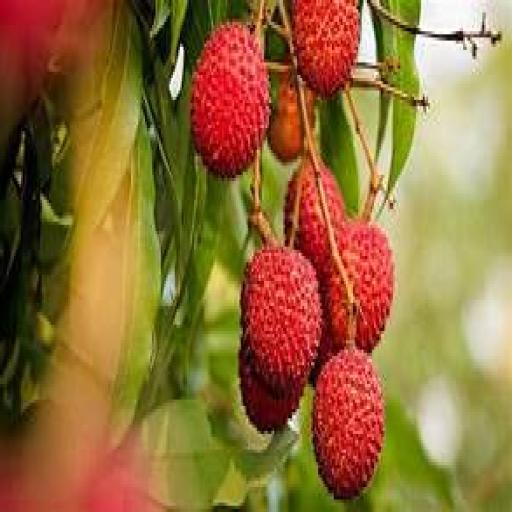lychee: (190, 22, 268, 177), (241, 247, 320, 396), (312, 347, 383, 499), (340, 222, 393, 352), (291, 0, 358, 96), (284, 160, 329, 290), (239, 344, 299, 433), (267, 75, 303, 162), (309, 316, 336, 387)
